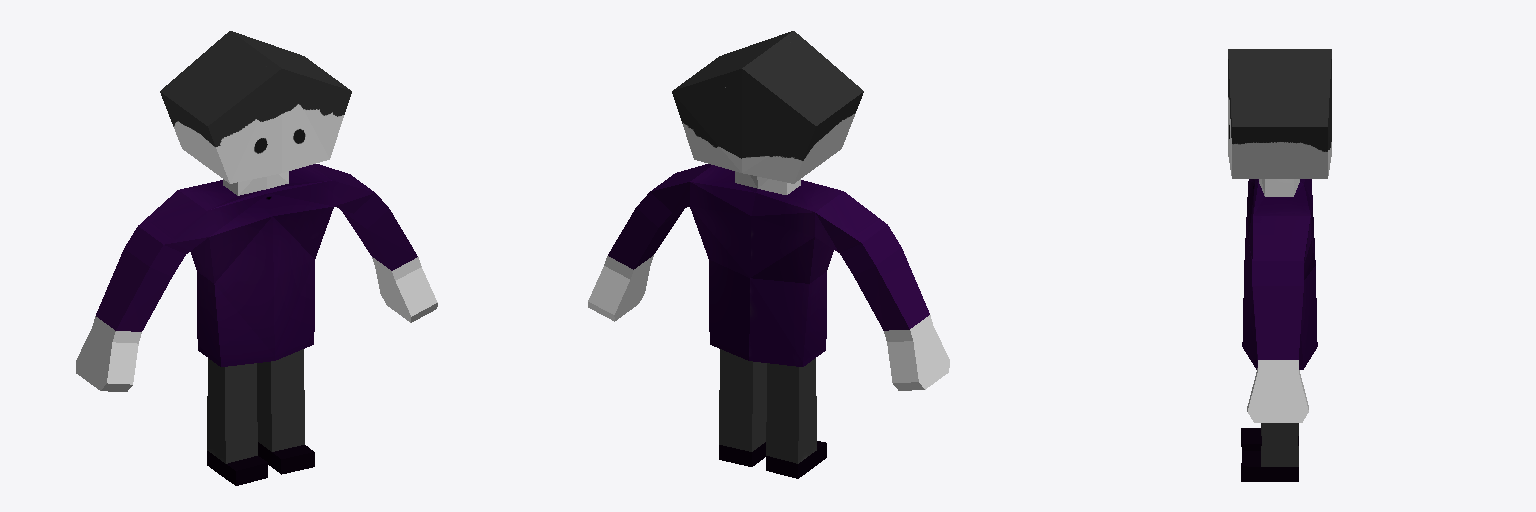
The picture shows the model from 3 angles: view 1: azimuth 30°, elevation 25°; view 2: azimuth 150°, elevation 25°; view 3: azimuth 270°, elevation 25°; orthographic projection.
Parts seen in each view (by area): view 1: Cube.006; view 2: Cube.006; view 3: Cube.006.
Part boxes in pixels (x1,y1,x2,y2): Cube.006: (76,31,437,485); Cube.006: (588,31,949,478); Cube.006: (1228,49,1331,481).
Bounding box in the file's own units: 4.2 × 4.92 × 1.12.
1 materials, 1 textured.